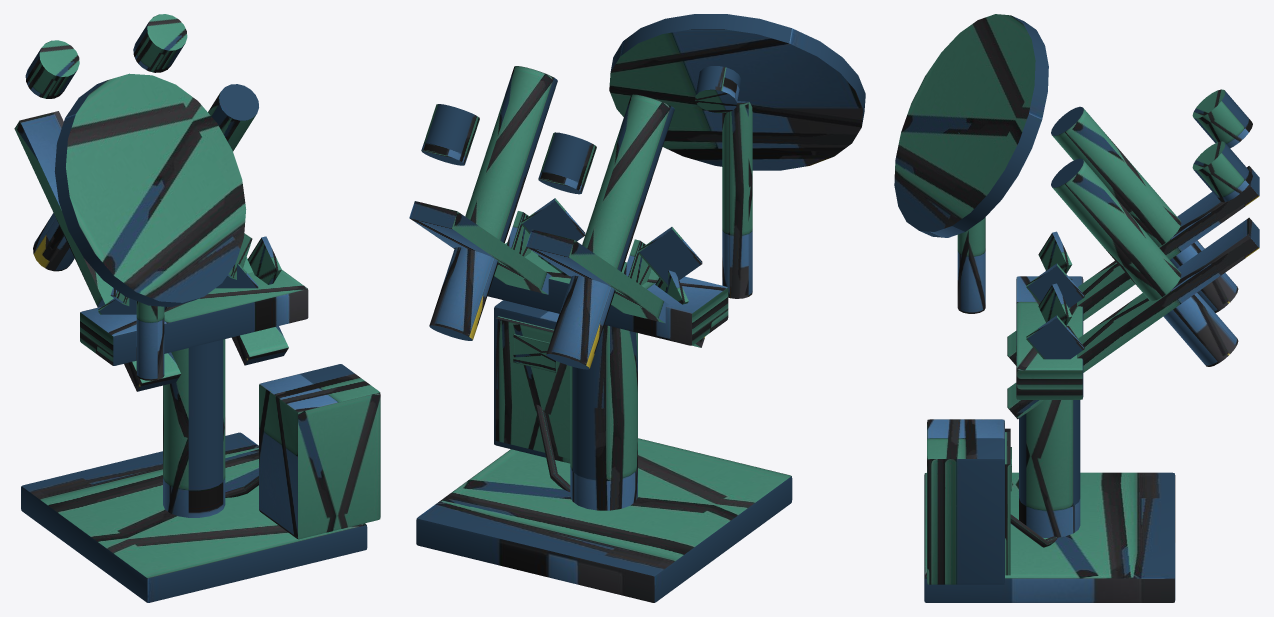
Rendered from DD_samsite.glb.
3 renders of one model, left to right at view 1: azimuth 30°, elevation 25°; view 2: azimuth 150°, elevation 25°; view 3: azimuth 270°, elevation 25°, orthographic. The views are drawn at different scales.
Visible parts, largest first — view 1: DD_samsite; view 2: DD_samsite; view 3: DD_samsite.
Boxes of the visible parts, x1=… form: DD_samsite: x1=14, y1=14, x2=380, y2=602; DD_samsite: x1=409, y1=14, x2=865, y2=602; DD_samsite: x1=894, y1=14, x2=1259, y2=602.
Size of the model in its own units: 1.26 by 1.89 by 1.31.
Materials: 1 (1 with a texture image).
